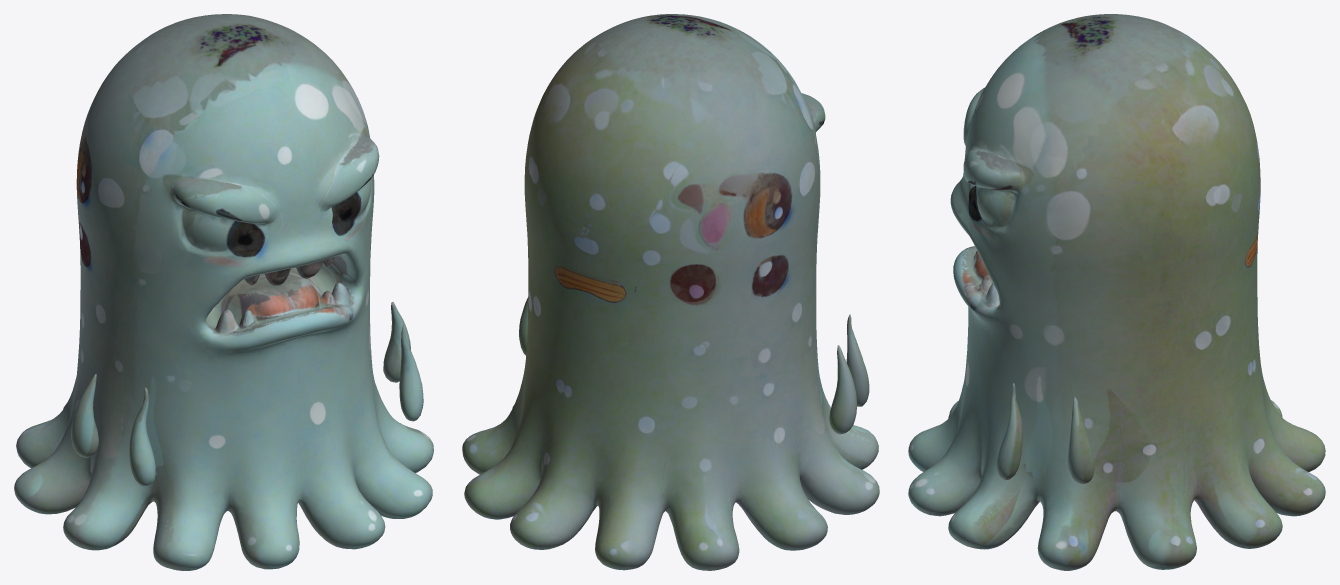
3 views of the same model, side by side, from view 1: azimuth 30°, elevation 25°; view 2: azimuth 150°, elevation 25°; view 3: azimuth 270°, elevation 25° (orthographic).
Visible parts, largest first — view 1: file1; view 2: file1; view 3: file1.
Boxes of the visible parts, x1,y1,x2,y2 form: file1: [14, 14, 433, 570]; file1: [462, 14, 879, 570]; file1: [908, 14, 1325, 570].
Bounding box in the file's own units: 1.63 × 2 × 1.62.
1 material, 1 textured.
